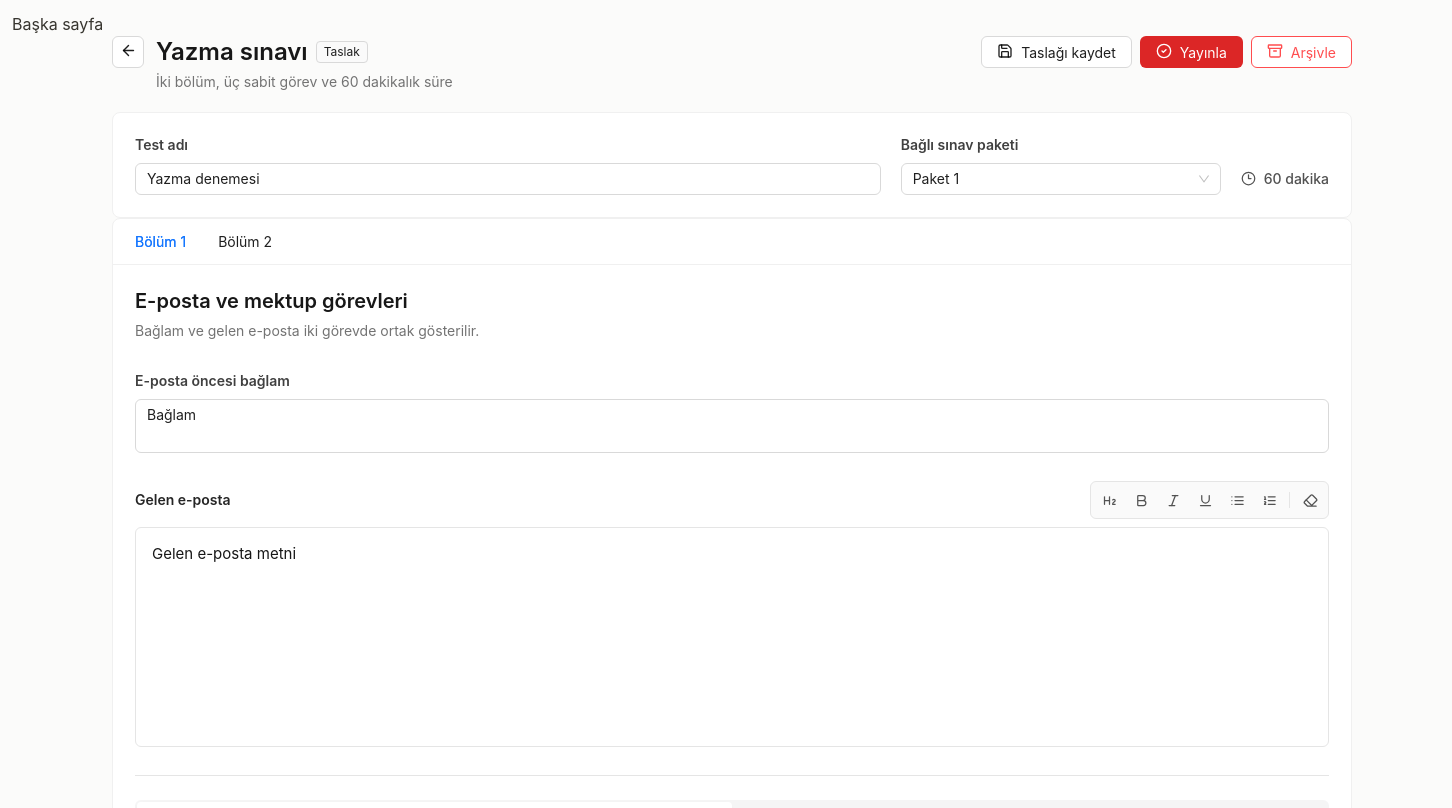
Test: WritingEditorPageV2 draft protection › locks text, rich text and metadata until saving finishes, then accepts new edits
Step 1. Replace the text in the field labelled "Test adı" with "Kaydedilen başlık" → (508, 179), box top-left (135, 163), bottom-right (881, 195)
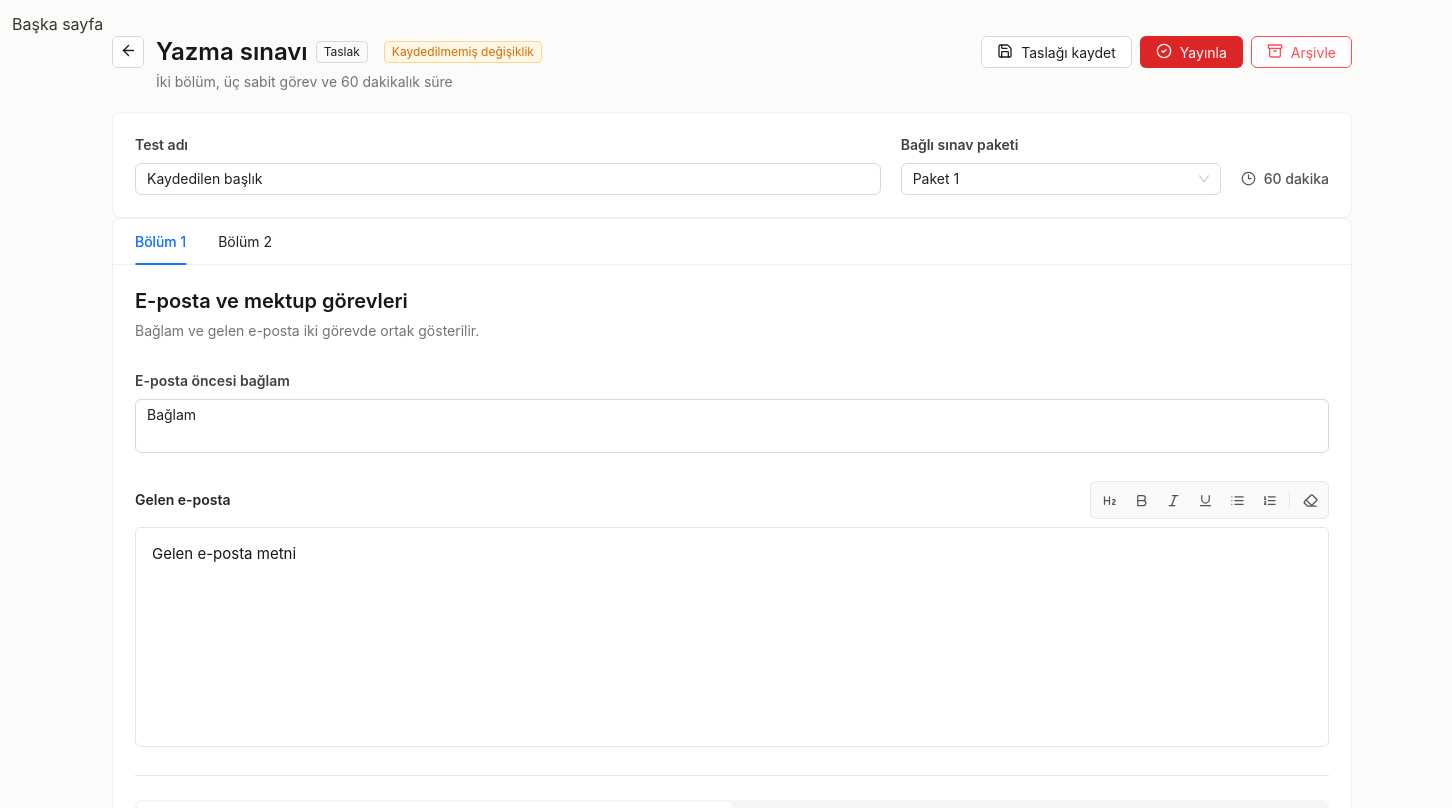
Step 2. Click the button "Taslağı kaydet" → click(1057, 52), box top-left (981, 36), bottom-right (1132, 68)
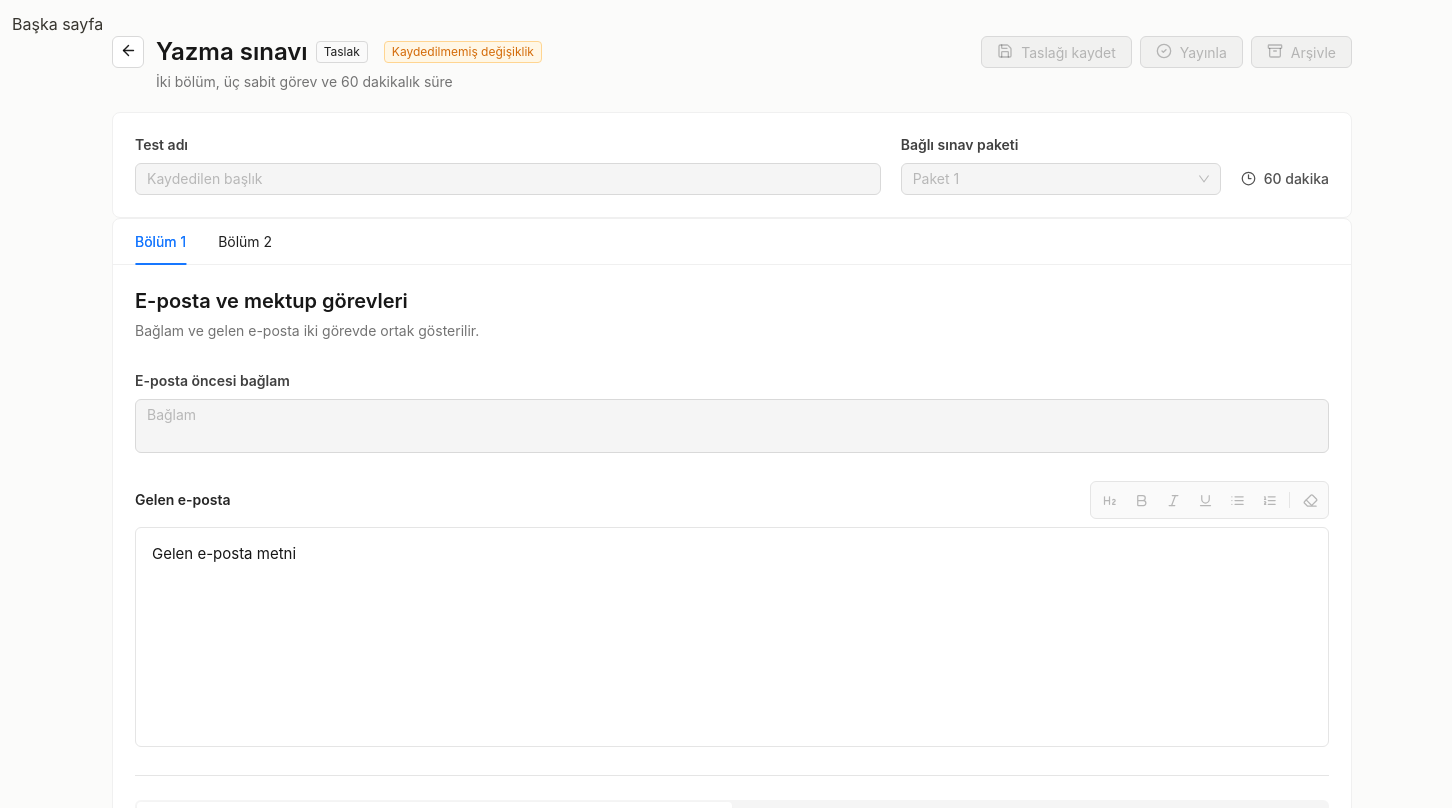
Expected: the field labelled "Test adı" is disabled, top-left (135, 163), bottom-right (881, 195)
Expected: the text box labelled "E-posta öncesi bağlam" is disabled, top-left (135, 399), bottom-right (1329, 453)
Expected: the dropdown is disabled, top-left (913, 164), bottom-right (1191, 194)
Step 3. Click the tab "Bölüm 2" → click(245, 242), box top-left (218, 231), bottom-right (272, 253)
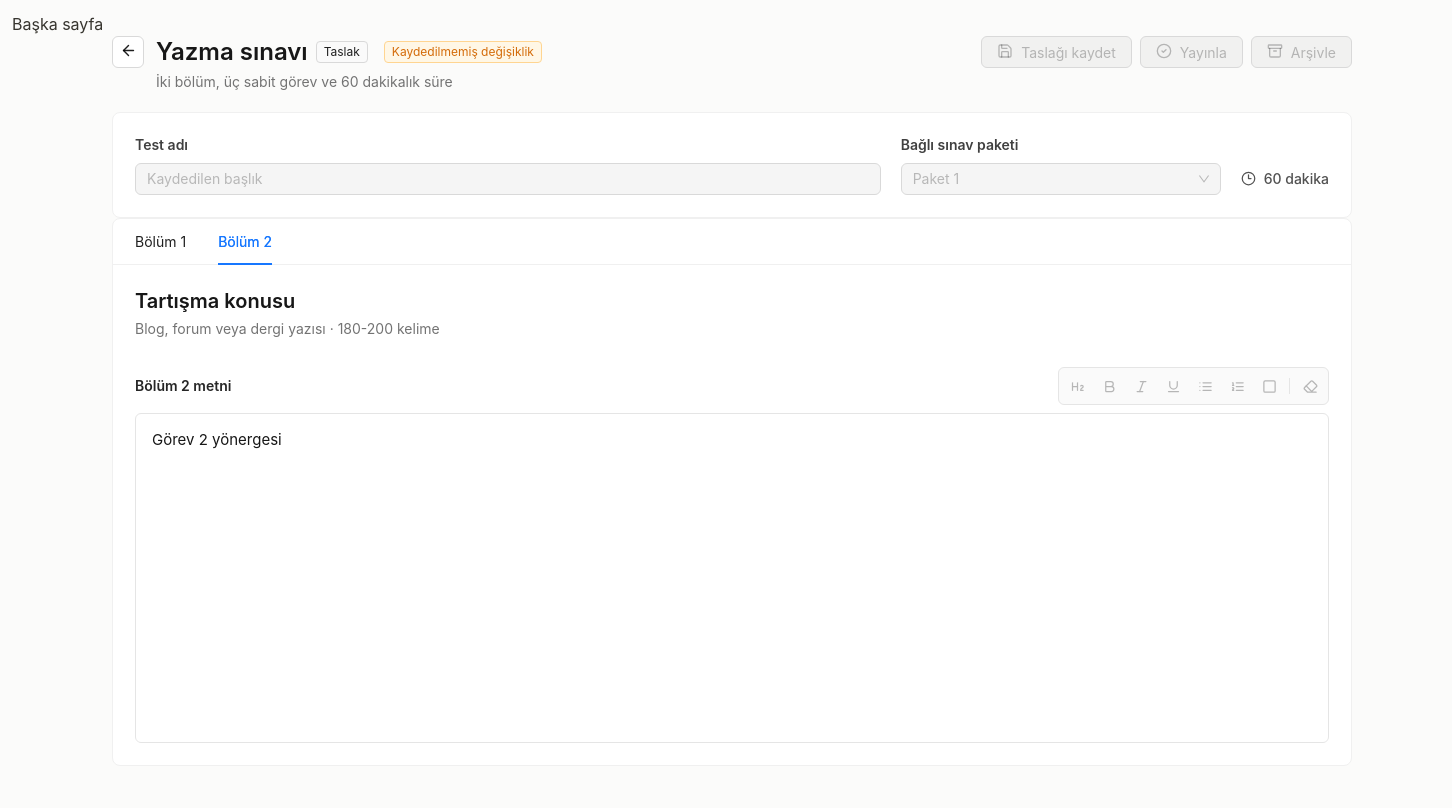
Step 4. Type " yeni cümle" into the field labelled "Test adı" → (508, 179), box top-left (135, 163), bottom-right (881, 195)
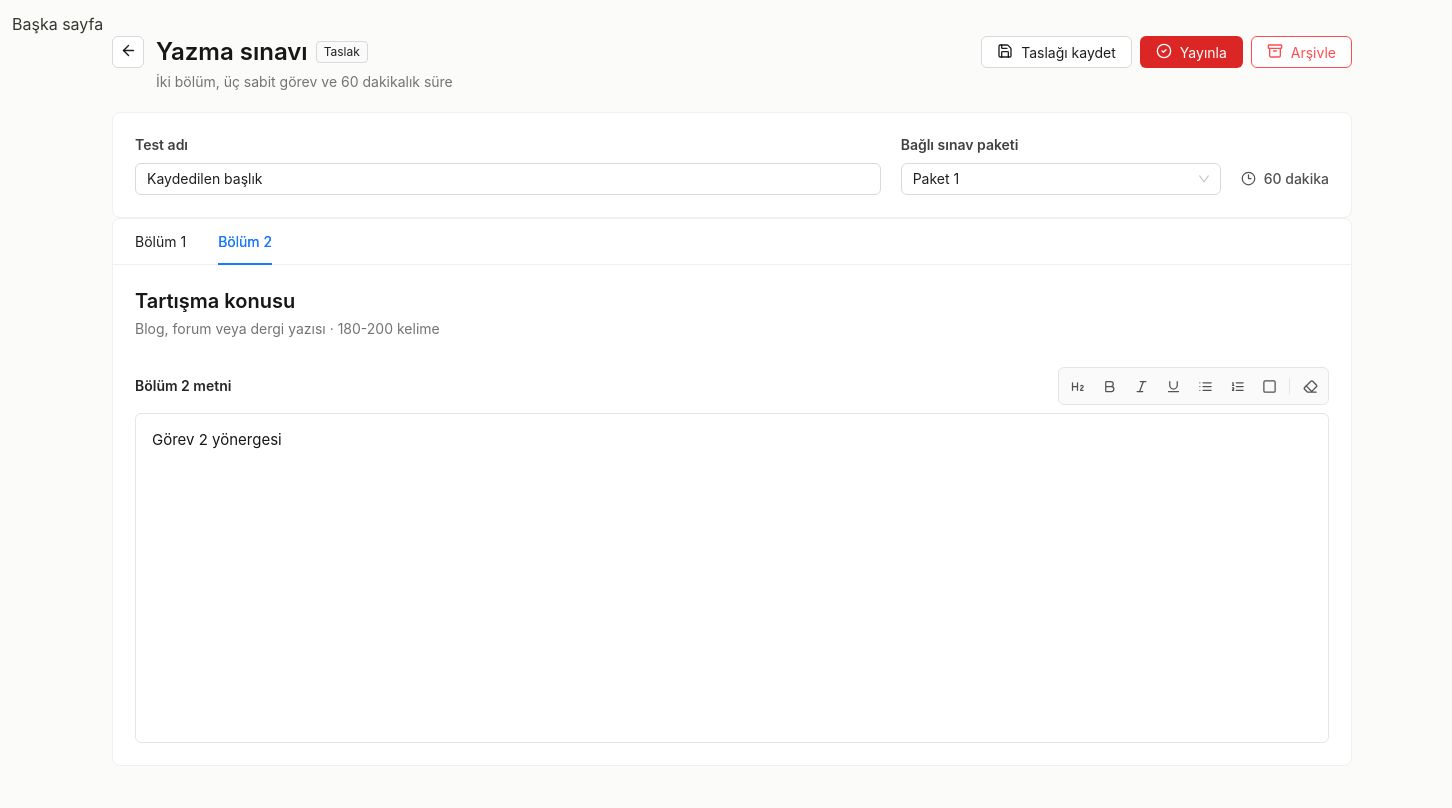
Expected: the field labelled "Test adı" is enabled
Expected: the text "Kaydedilmemiş değişiklik" is gone
Step 5. Type " yeni cümle" into the field labelled "Test adı" → (508, 179), box top-left (135, 163), bottom-right (881, 195)
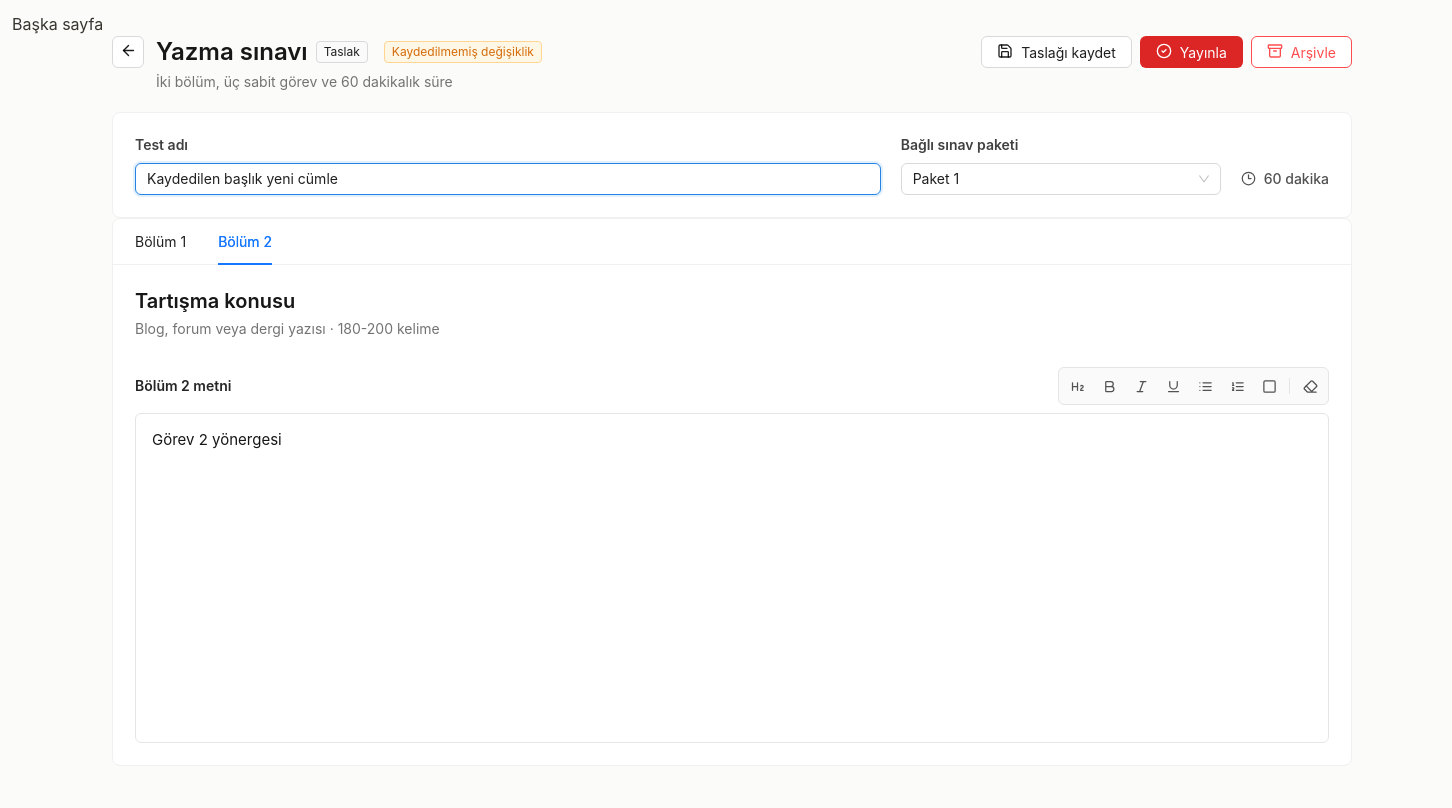
Expected: the field labelled "Test adı" holds "Kaydedilen başlık yeni cümle", top-left (135, 163), bottom-right (881, 195)
Expected: the text "Kaydedilmemiş değişiklik" is shown, top-left (384, 41), bottom-right (542, 63)
